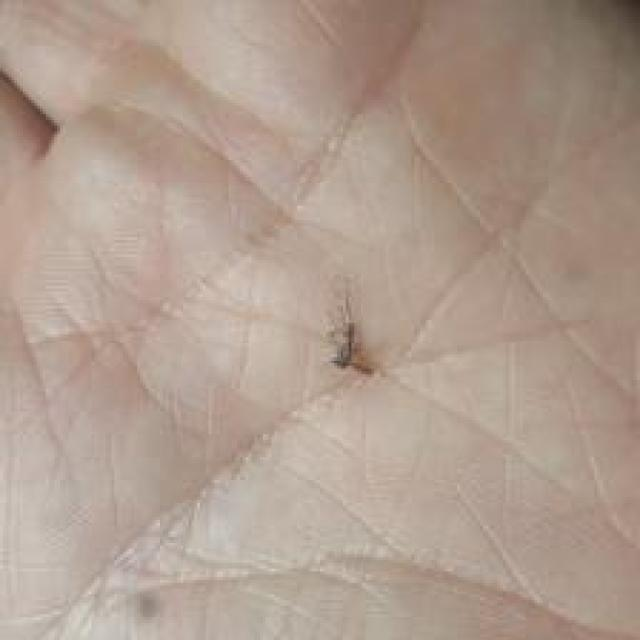Aedes albopictus: (324, 289, 373, 377)
